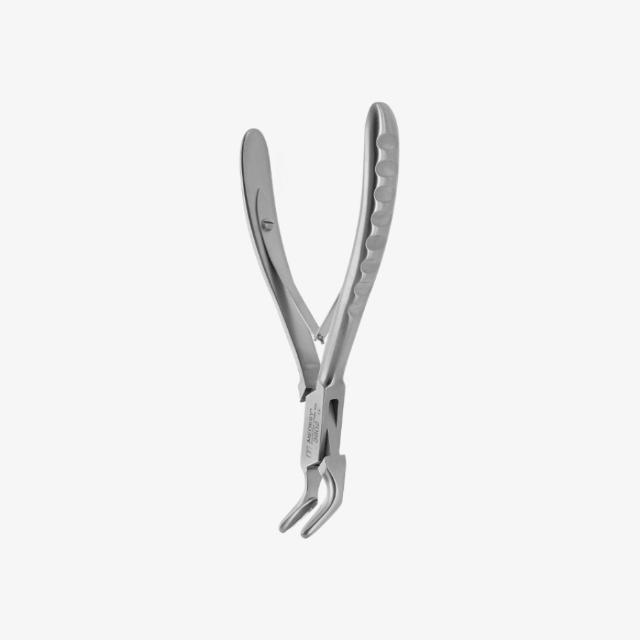gubia: (239, 102, 402, 541)
